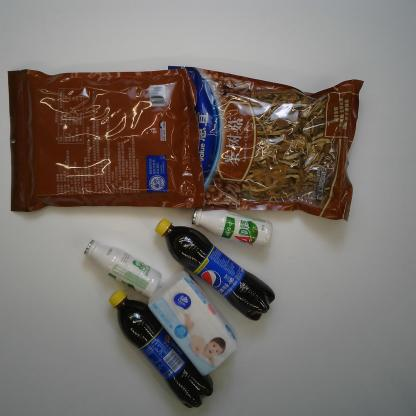Dried Food: (165, 64, 365, 222), (6, 68, 207, 214)
Drink: (107, 288, 215, 408), (154, 220, 276, 322)
Milk: (82, 239, 162, 299), (190, 207, 274, 248)
Tissue: (146, 267, 241, 378)
